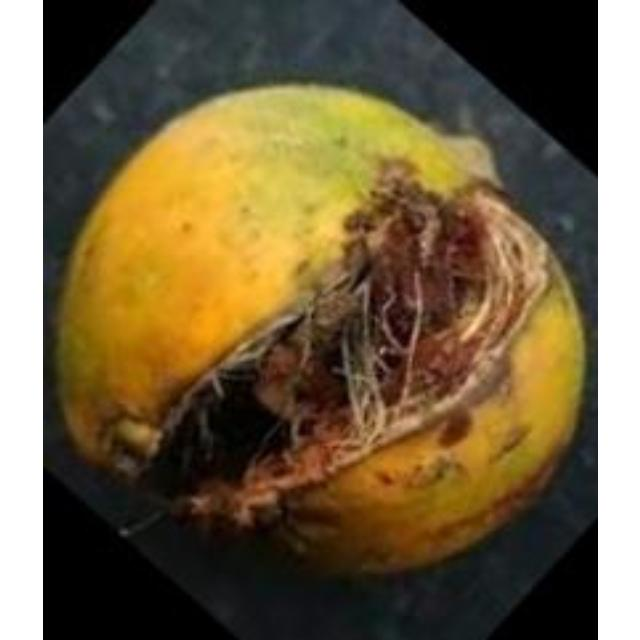damaged: (53, 80, 581, 605)
